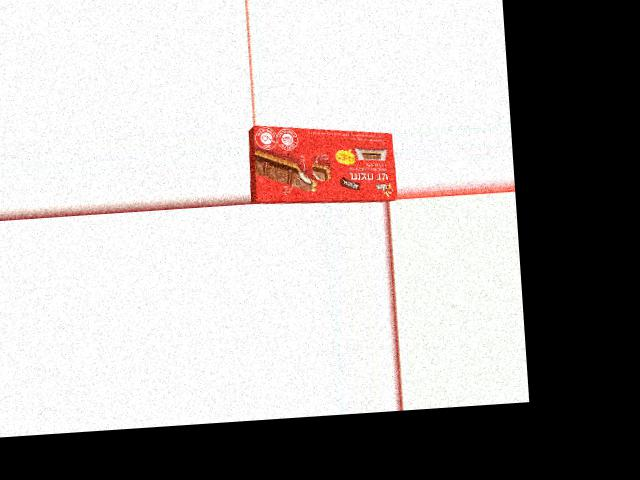chocolate: (248, 125, 398, 204)
